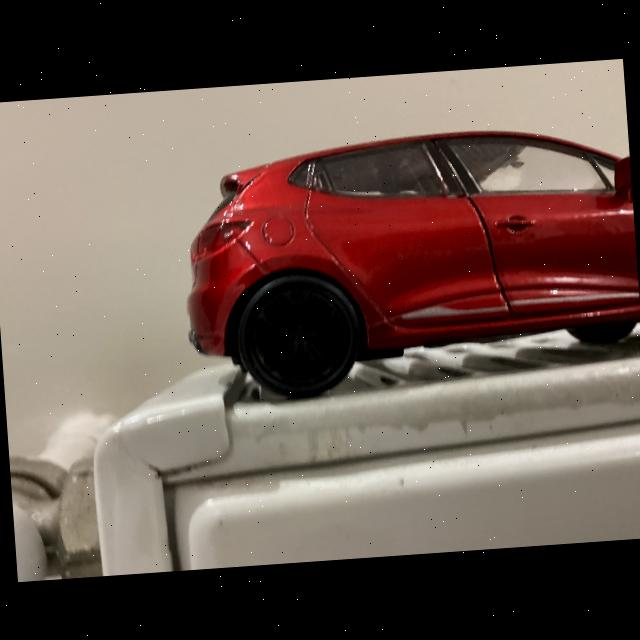Dogru_Jant: (246, 281, 348, 384)
